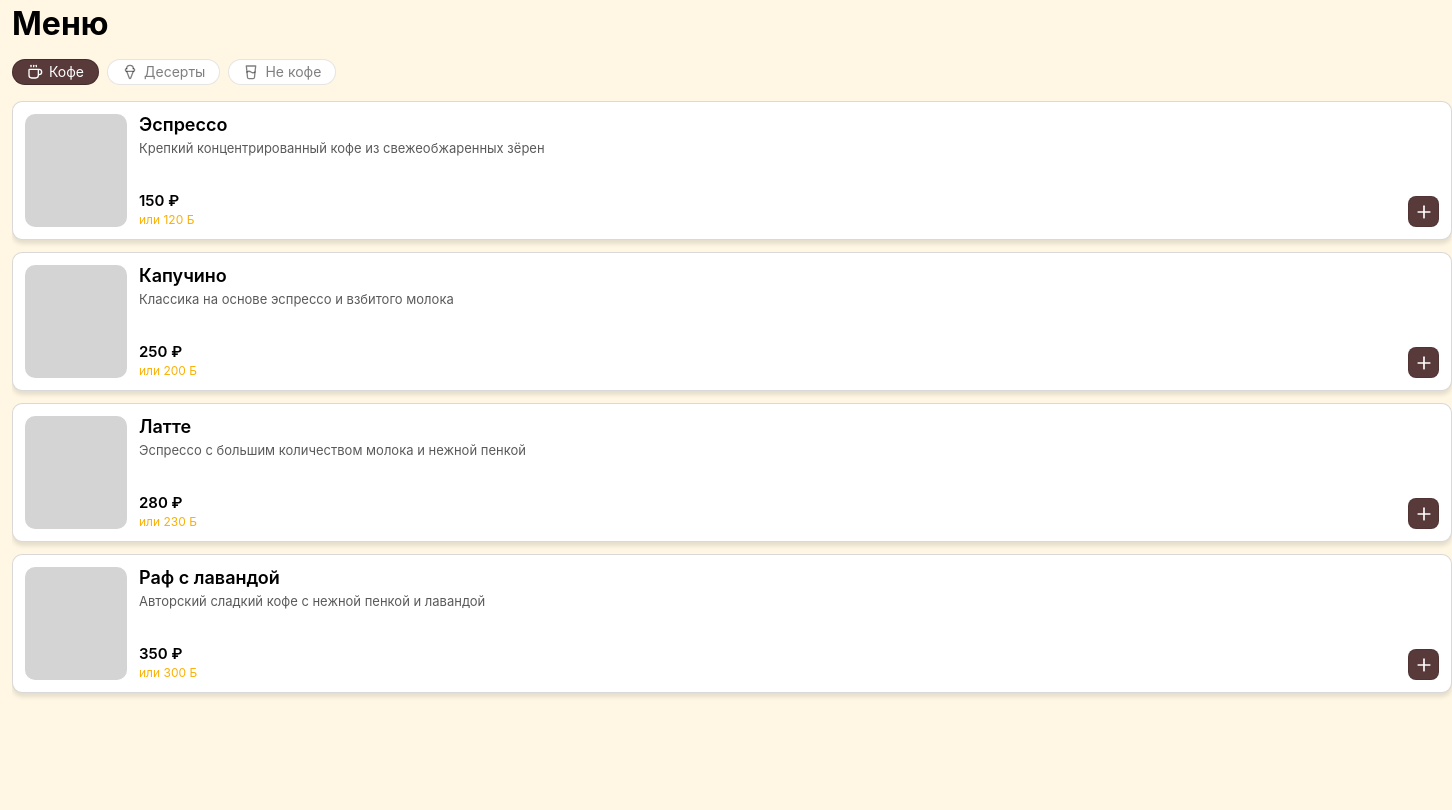
it: MenuPage › switches to desserts when tab clicked
Click the tab "Десерты".
click(164, 72)  # box [107,59,220,85]
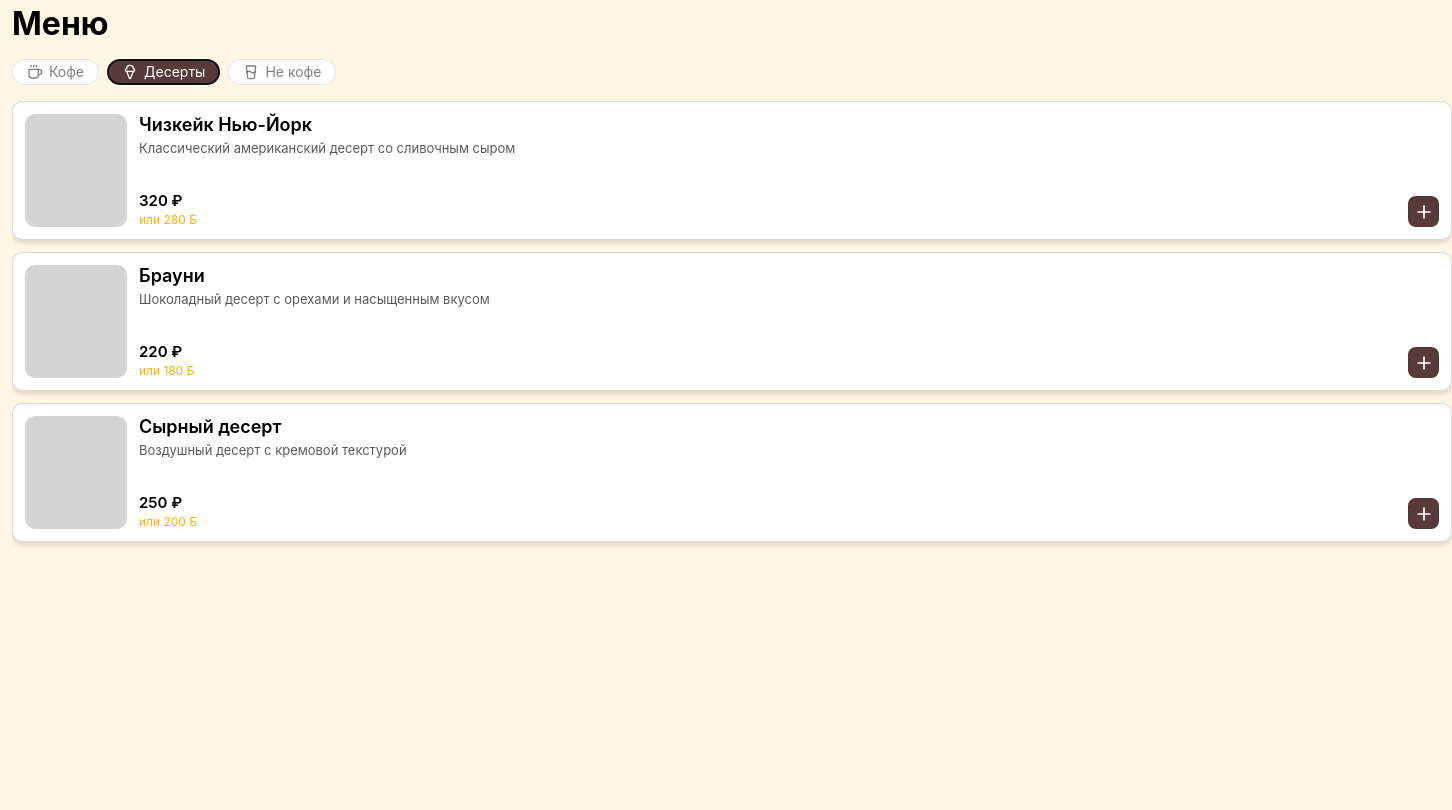
Result: the heading "Брауни" is shown at [139,265,205,286]
Result: the heading "Раф с лавандой" is gone
